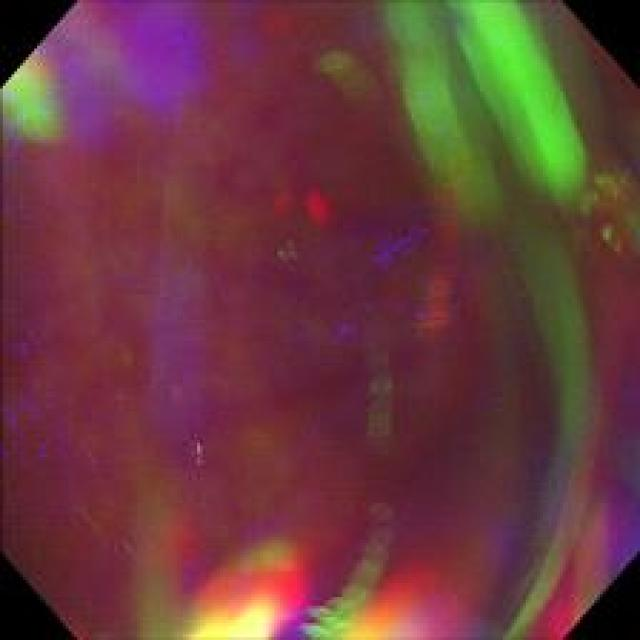color misalignment: (310, 1, 628, 631), (5, 18, 338, 395), (14, 392, 384, 630)
